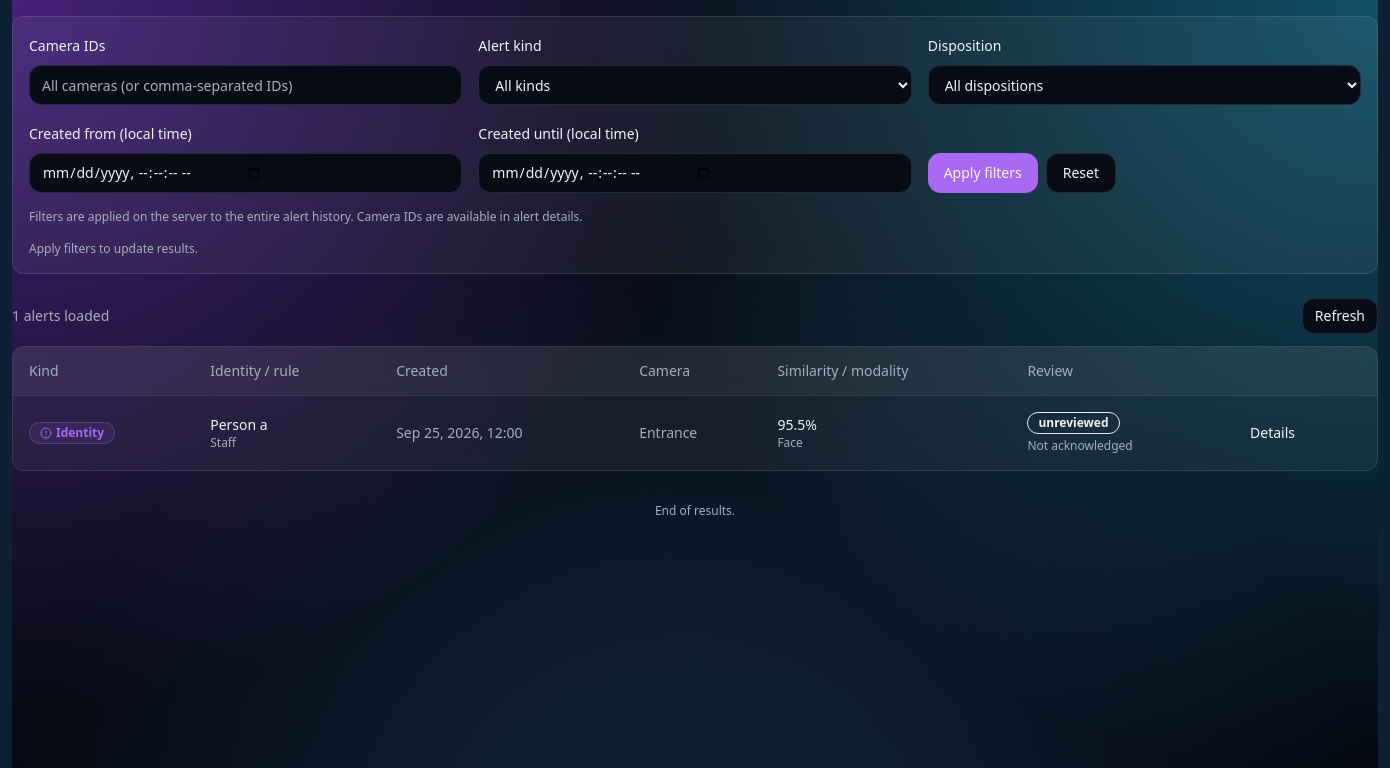
server-side alert filters › rejects reversed dates without changing the query
Type "2026-09-25T10:00" into the field labelled "Created from (local time)".
click(246, 173); type("2026-09-25T10:00")  # box [29,153,462,193]
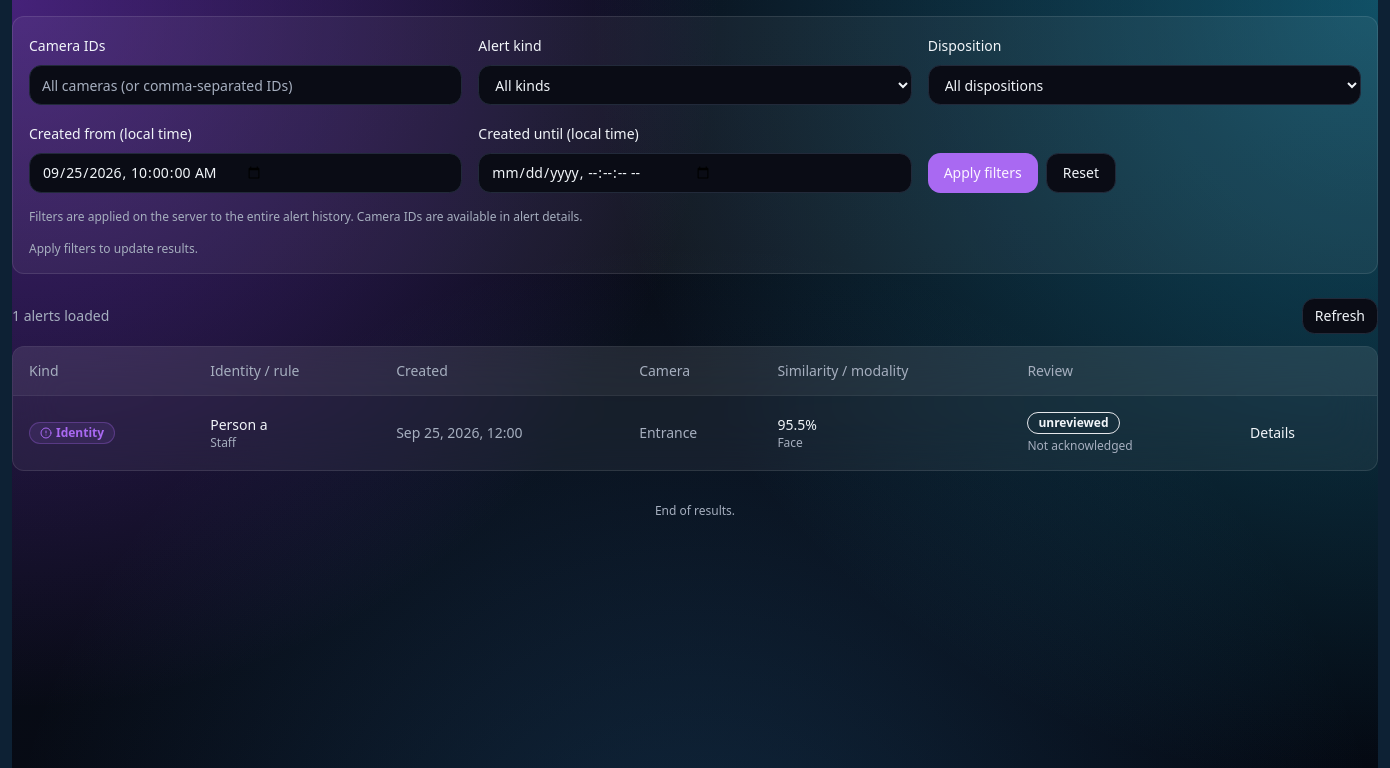
Type "2026-09-01T10:00" into the field labelled "Created until (local time)".
click(695, 173); type("2026-09-01T10:00")  # box [478,153,912,193]
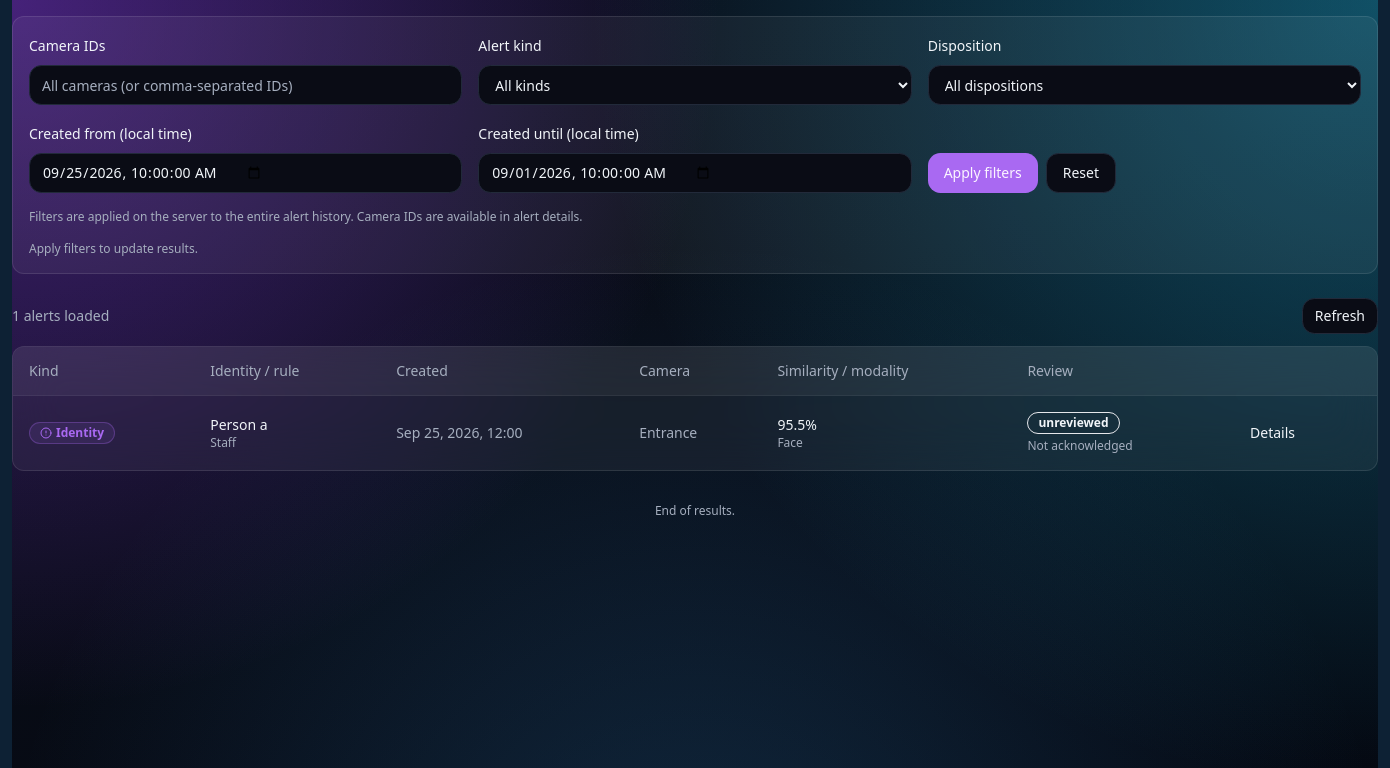
Click the button "Apply filters".
click(983, 173)  # box [928,153,1038,193]
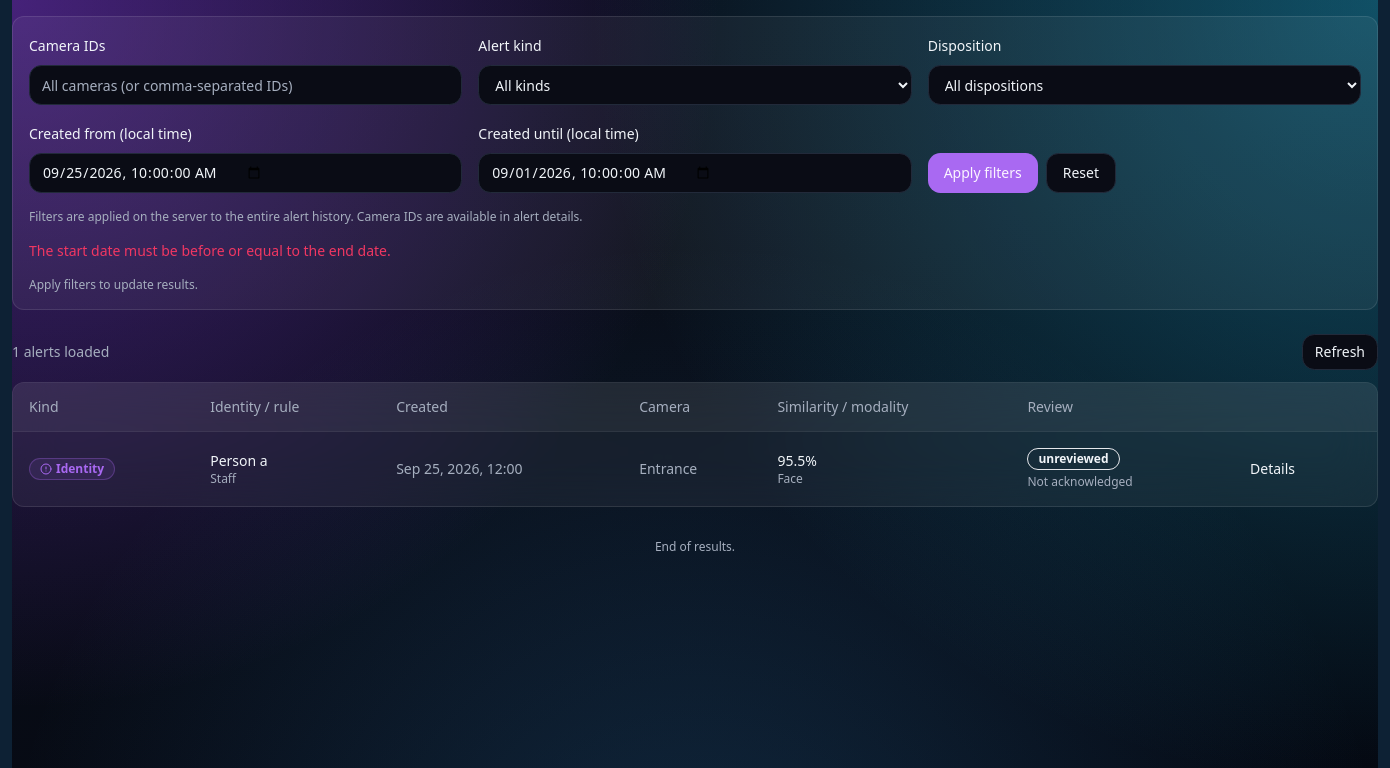
expect the message "The start date must be before or equal to the end date." is shown: met, box [29,241,391,260]
